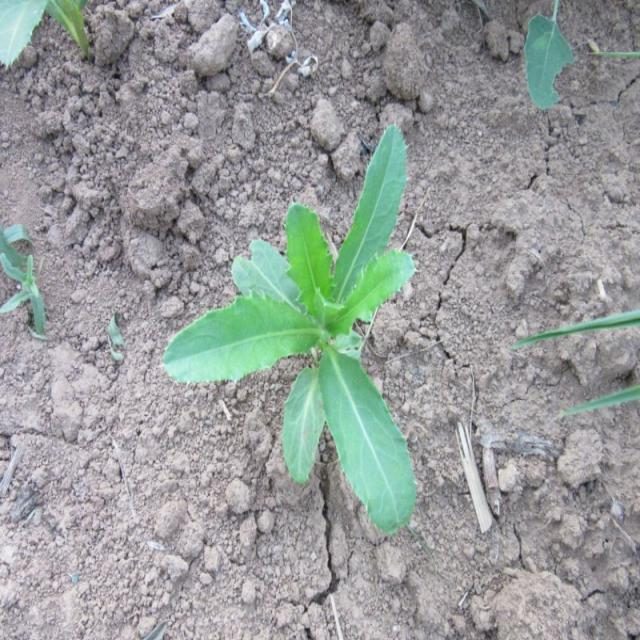cs: (160, 120, 420, 538)
